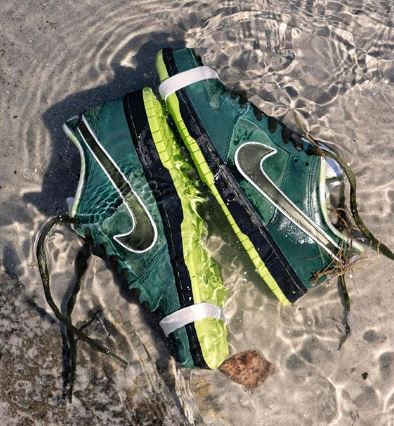Nike SB Dunk Green Lobster: (154, 28, 363, 314), (51, 78, 235, 387)
